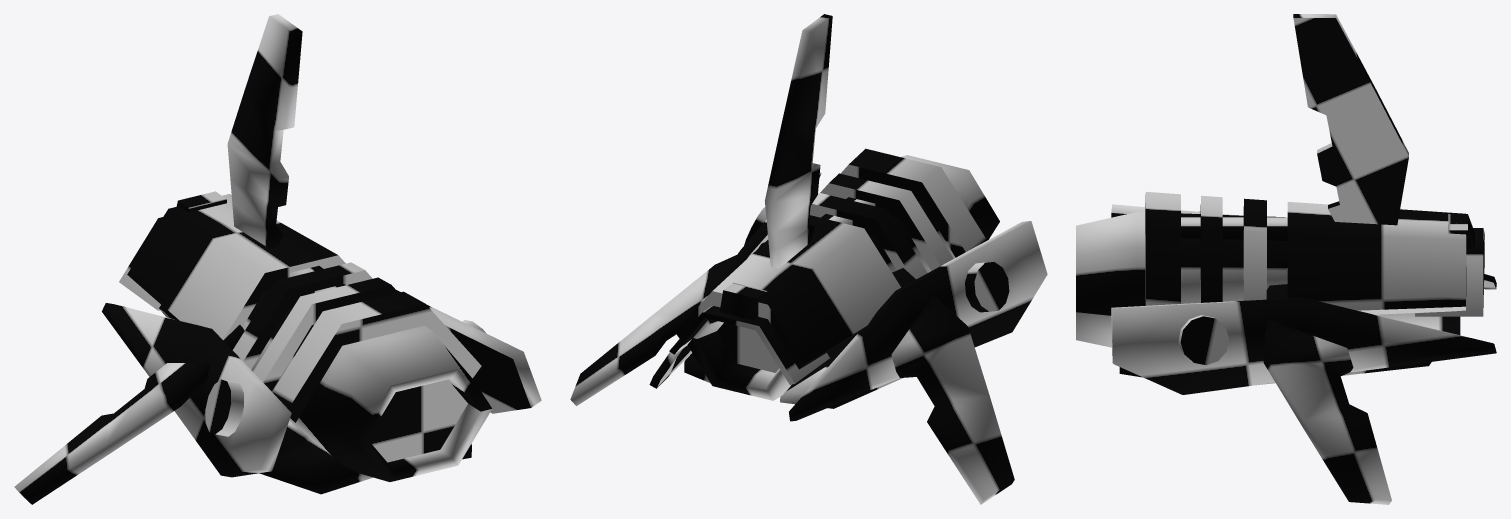
File: drone_spectrum.obj
3 renders of one model, left to right at view 1: azimuth 30°, elevation 25°; view 2: azimuth 150°, elevation 25°; view 3: azimuth 270°, elevation 25°, orthographic. The views are drawn at different scales.
Parts seen in each view (by area): view 1: drone_ingame; view 2: drone_ingame; view 3: drone_ingame.
Part boxes in pixels (x1,y1,x2,y2): drone_ingame: (14, 14, 541, 504); drone_ingame: (570, 14, 1047, 504); drone_ingame: (1076, 14, 1496, 504).
Bounding box in the file's own units: 34.31 × 30.55 × 29.65.
1 material, 1 textured.
